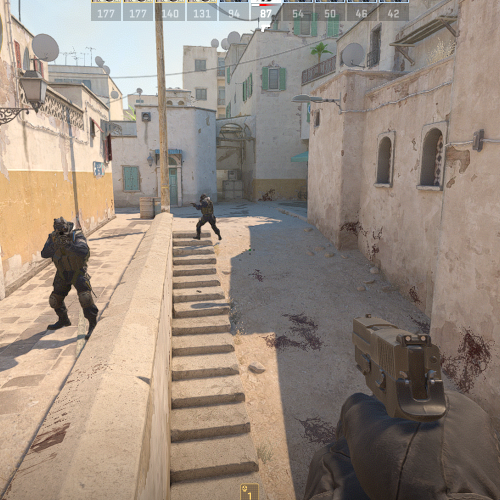ct_body: (41, 218, 99, 339), (192, 193, 223, 241)
ct_head: (53, 217, 68, 235), (199, 193, 209, 202)
